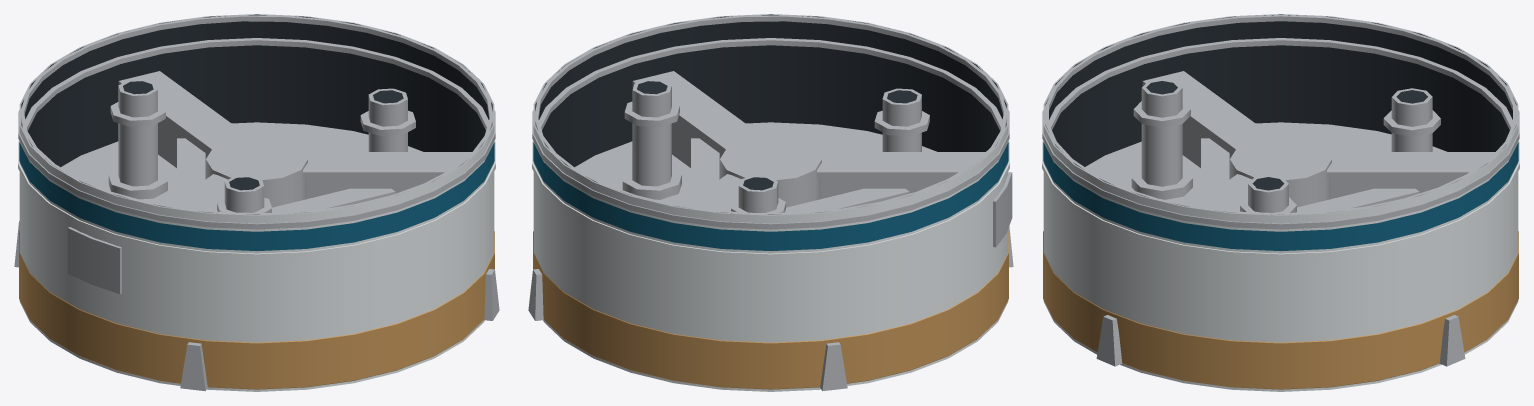
Rendered from mount_s1_3_d54.glb.
3 views of the same model, side by side, from view 1: azimuth 30°, elevation 25°; view 2: azimuth 150°, elevation 25°; view 3: azimuth 270°, elevation 25° (orthographic).
Visible parts, largest first — view 1: mount_s1_3_d54_mesh; view 2: mount_s1_3_d54_mesh; view 3: mount_s1_3_d54_mesh.
Boxes of the visible parts, x1,y1,x2,y2 form: mount_s1_3_d54_mesh: (14, 14, 499, 391); mount_s1_3_d54_mesh: (528, 14, 1013, 391); mount_s1_3_d54_mesh: (1042, 14, 1519, 391).
Bounding box in the file's own units: 5.44 × 2.2 × 5.41.
